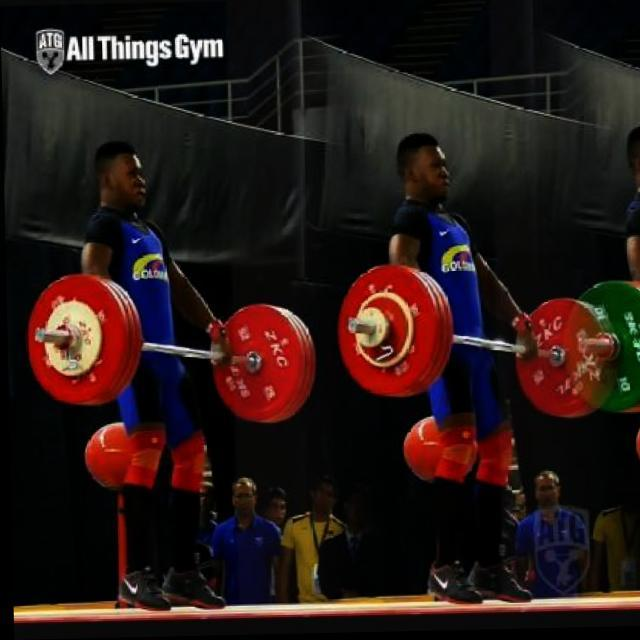barbell: (335, 259, 443, 403), (27, 268, 131, 411)
